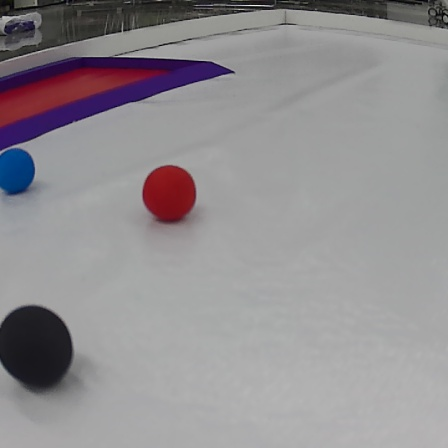black: (2, 304, 78, 392)
blue: (0, 147, 37, 197)
red: (137, 163, 201, 225)
red_aim: (1, 52, 238, 153)
